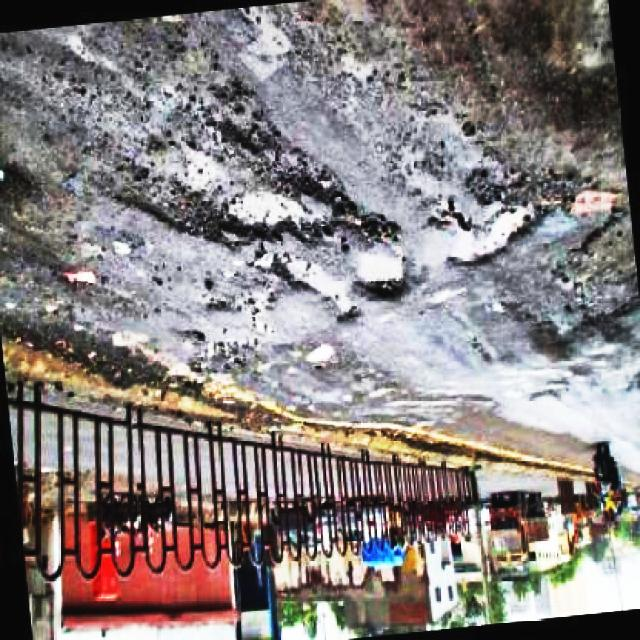pothole: (434, 194, 549, 268), (218, 192, 351, 252), (282, 249, 360, 323), (351, 246, 412, 303), (303, 340, 346, 372)
